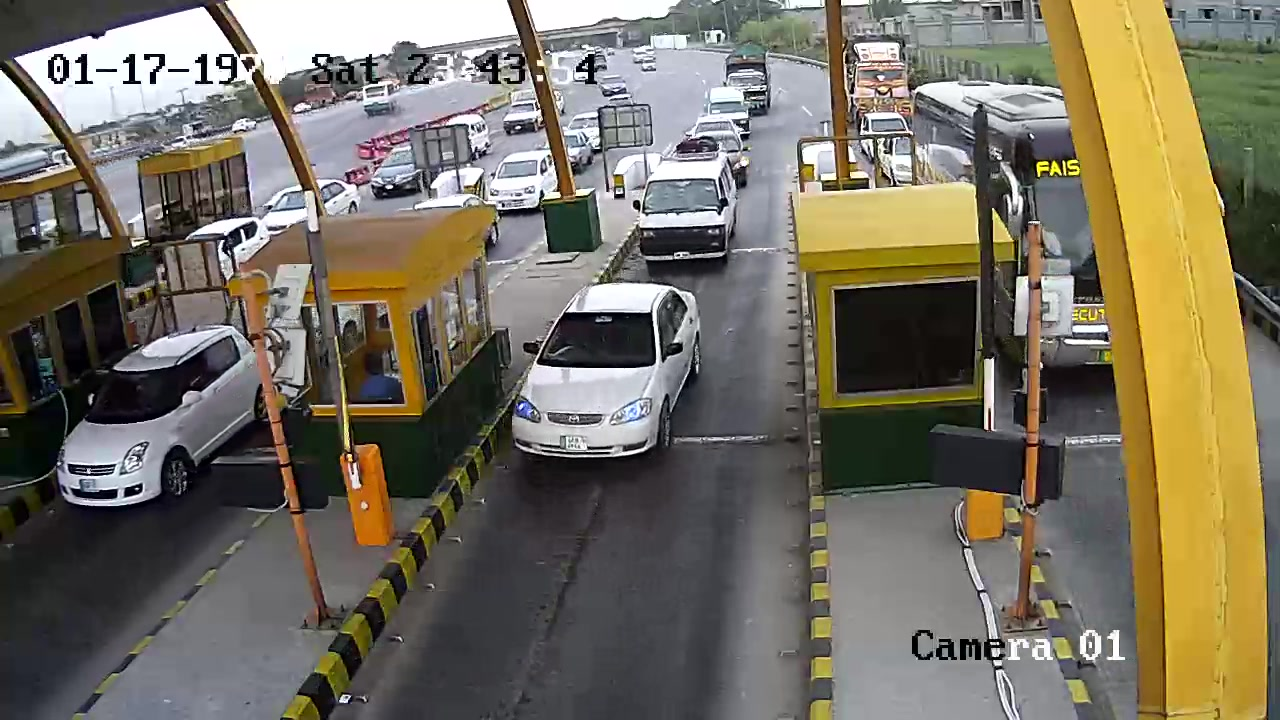F1: (502, 281, 722, 480)
